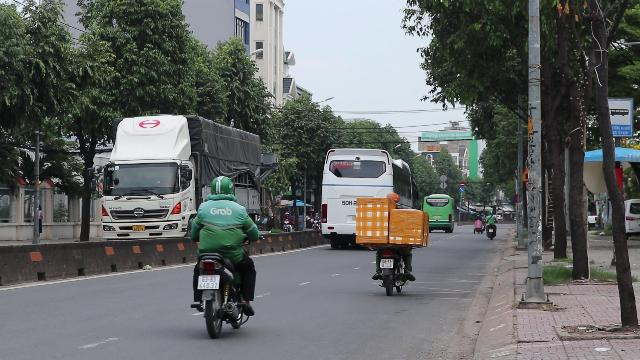helmet: (208, 176, 234, 198), (384, 192, 400, 208)
licenseplate: (198, 275, 218, 289), (380, 258, 392, 267)
motorcyclist: (185, 175, 261, 338), (354, 190, 431, 296)
